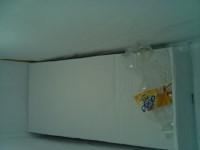bottle: (125, 40, 173, 139)
